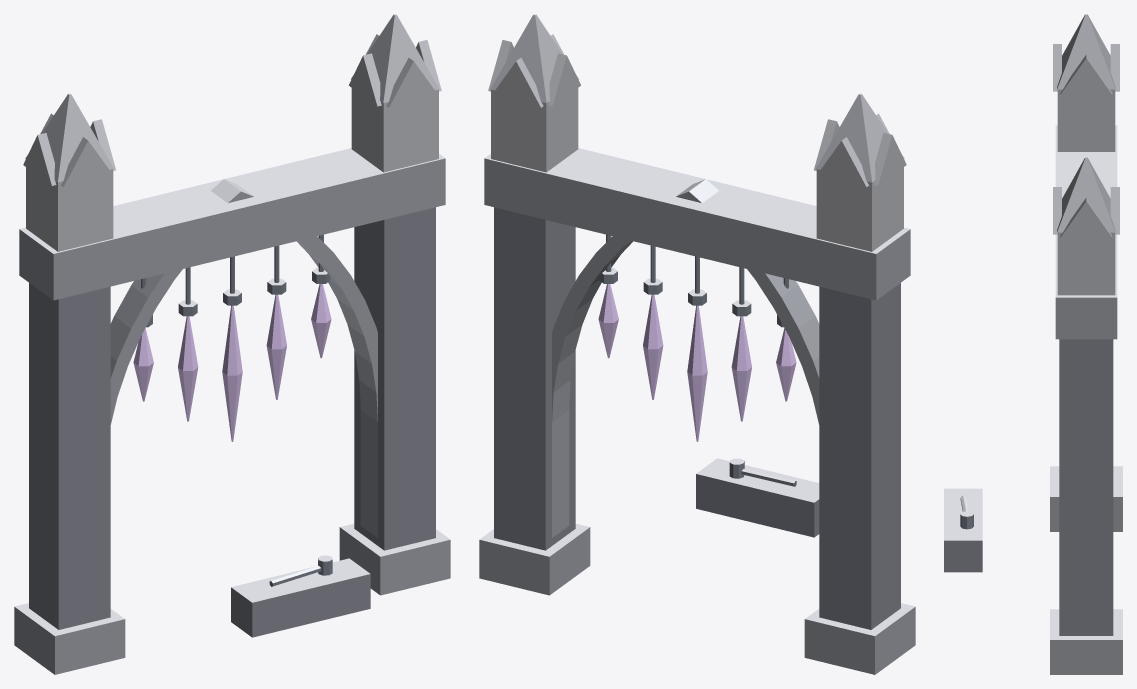
File: PR_Carrilhao_Cristal.fbx
3 views of the same model, side by side, from view 1: azimuth 30°, elevation 25°; view 2: azimuth 150°, elevation 25°; view 3: azimuth 270°, elevation 25° (orthographic). The views are drawn at different scales.
Visible parts, largest first — view 1: PR_Carrilhao_Cristal; view 2: PR_Carrilhao_Cristal; view 3: PR_Carrilhao_Cristal.
Part boxes in pixels (bbox=[...]): PR_Carrilhao_Cristal: bbox=[14, 14, 450, 674]; PR_Carrilhao_Cristal: bbox=[479, 14, 915, 674]; PR_Carrilhao_Cristal: bbox=[944, 14, 1122, 674].
Size of the model in its own units: 5.35 by 7.2 by 2.33.
